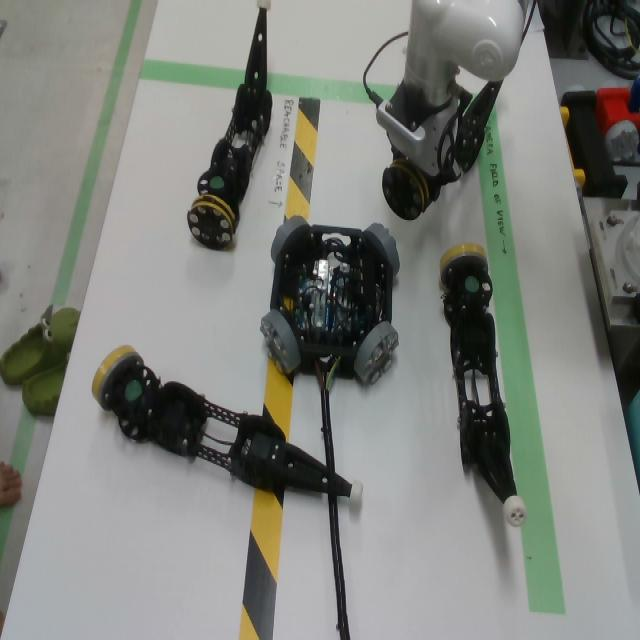body: (270, 225, 392, 381)
body_connector: (354, 321, 400, 384), (260, 309, 301, 376), (270, 216, 311, 264), (364, 223, 400, 277)
gripper: (387, 97, 462, 203)
leg: (92, 345, 364, 509), (439, 243, 528, 529), (187, 0, 272, 248), (455, 81, 503, 173), (382, 159, 430, 221)
leg_connector: (92, 345, 144, 412), (382, 159, 429, 221), (187, 195, 235, 248), (440, 243, 489, 285)
leg_marker: (125, 380, 142, 401), (465, 276, 479, 292), (210, 177, 224, 188)
